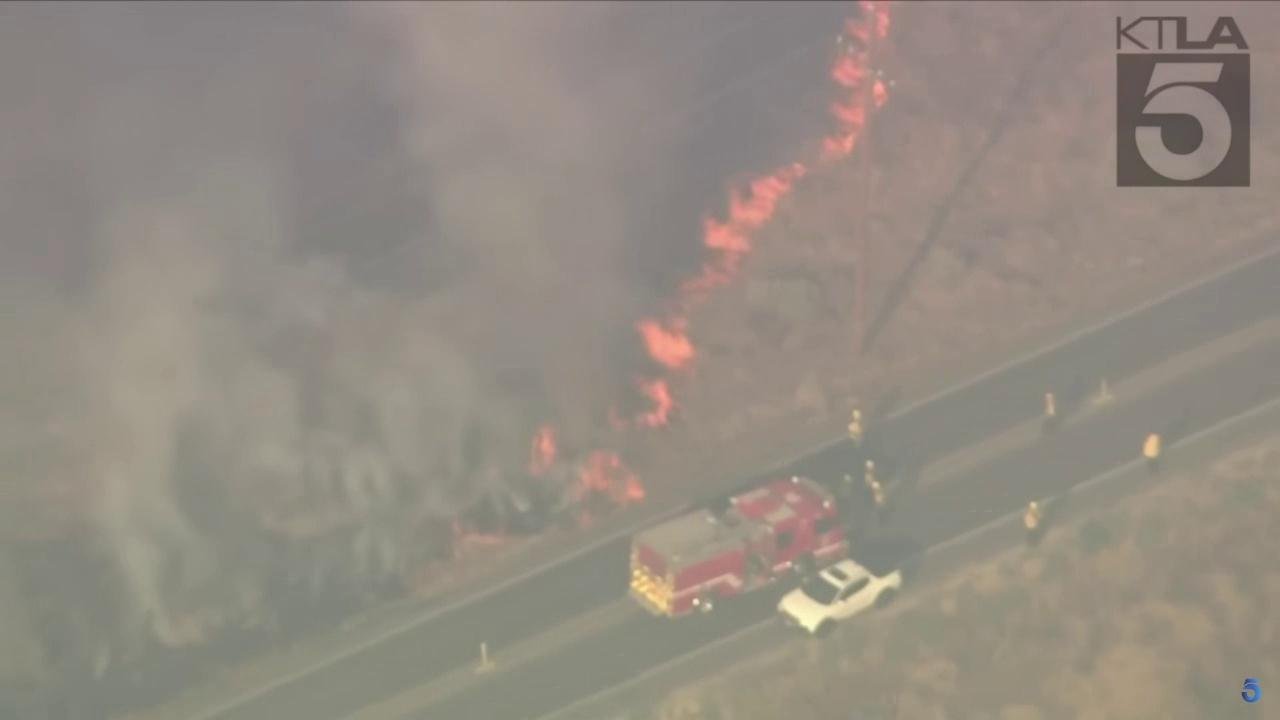fire: (633, 160, 807, 371), (817, 0, 894, 157), (599, 377, 676, 435), (573, 446, 646, 505), (522, 422, 561, 476)
smoke: (0, 0, 865, 678)
